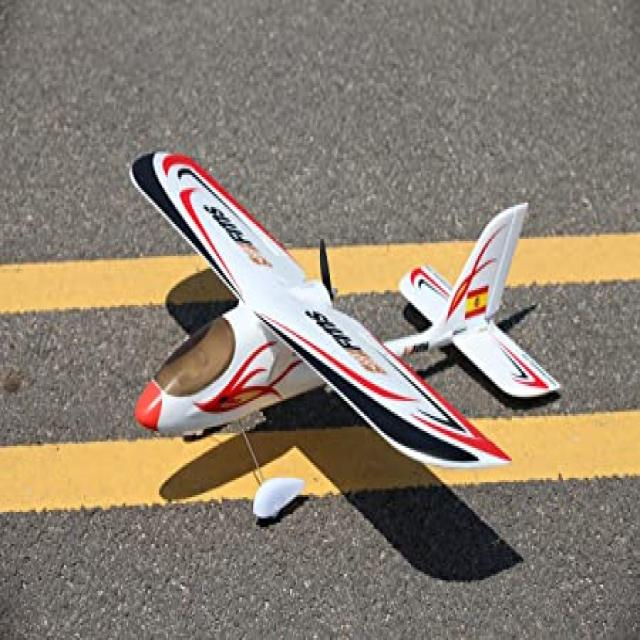iha: (122, 142, 566, 528)
